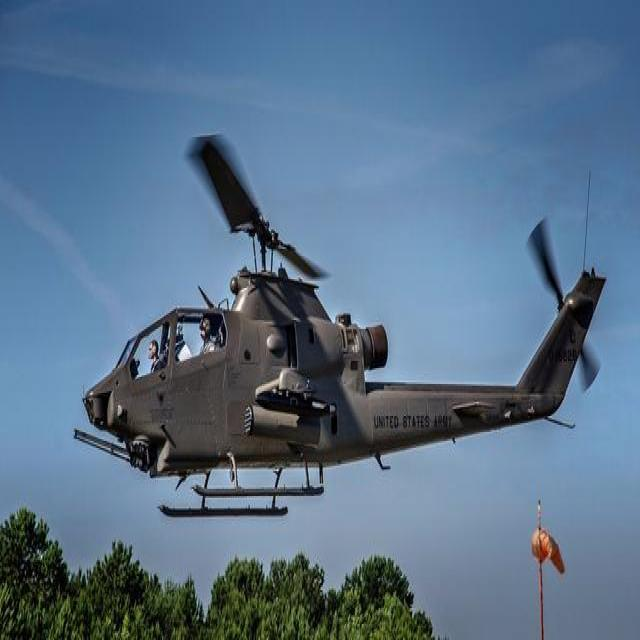MIL_HELO: (74, 132, 608, 522)
